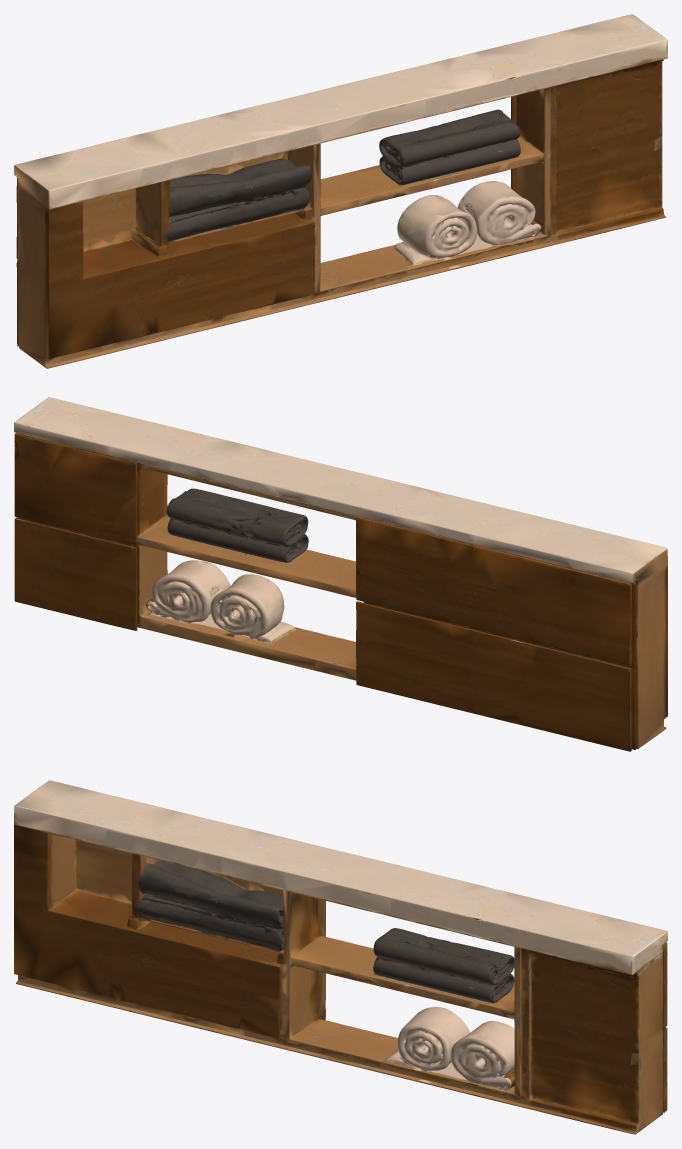
File: mbath-vanity.glb
The picture shows the model from 3 angles, top to bottom: view 1: azimuth 30°, elevation 25°; view 2: azimuth 150°, elevation 25°; view 3: azimuth 330°, elevation 25°; orthographic projection.
Bounding box in the file's own units: 1.9 × 0.5285 × 0.1916.
1 material, 1 textured.
